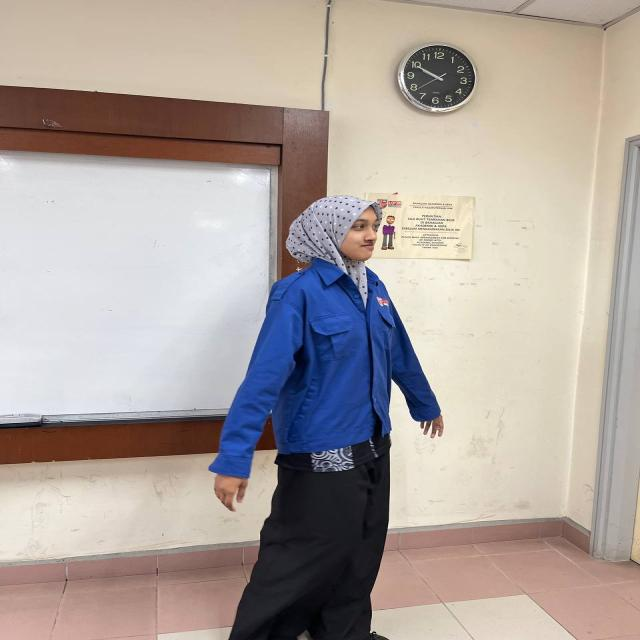person_with_labcoat: (209, 196, 443, 640)
